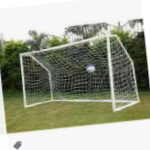goals: (20, 32, 141, 114)
